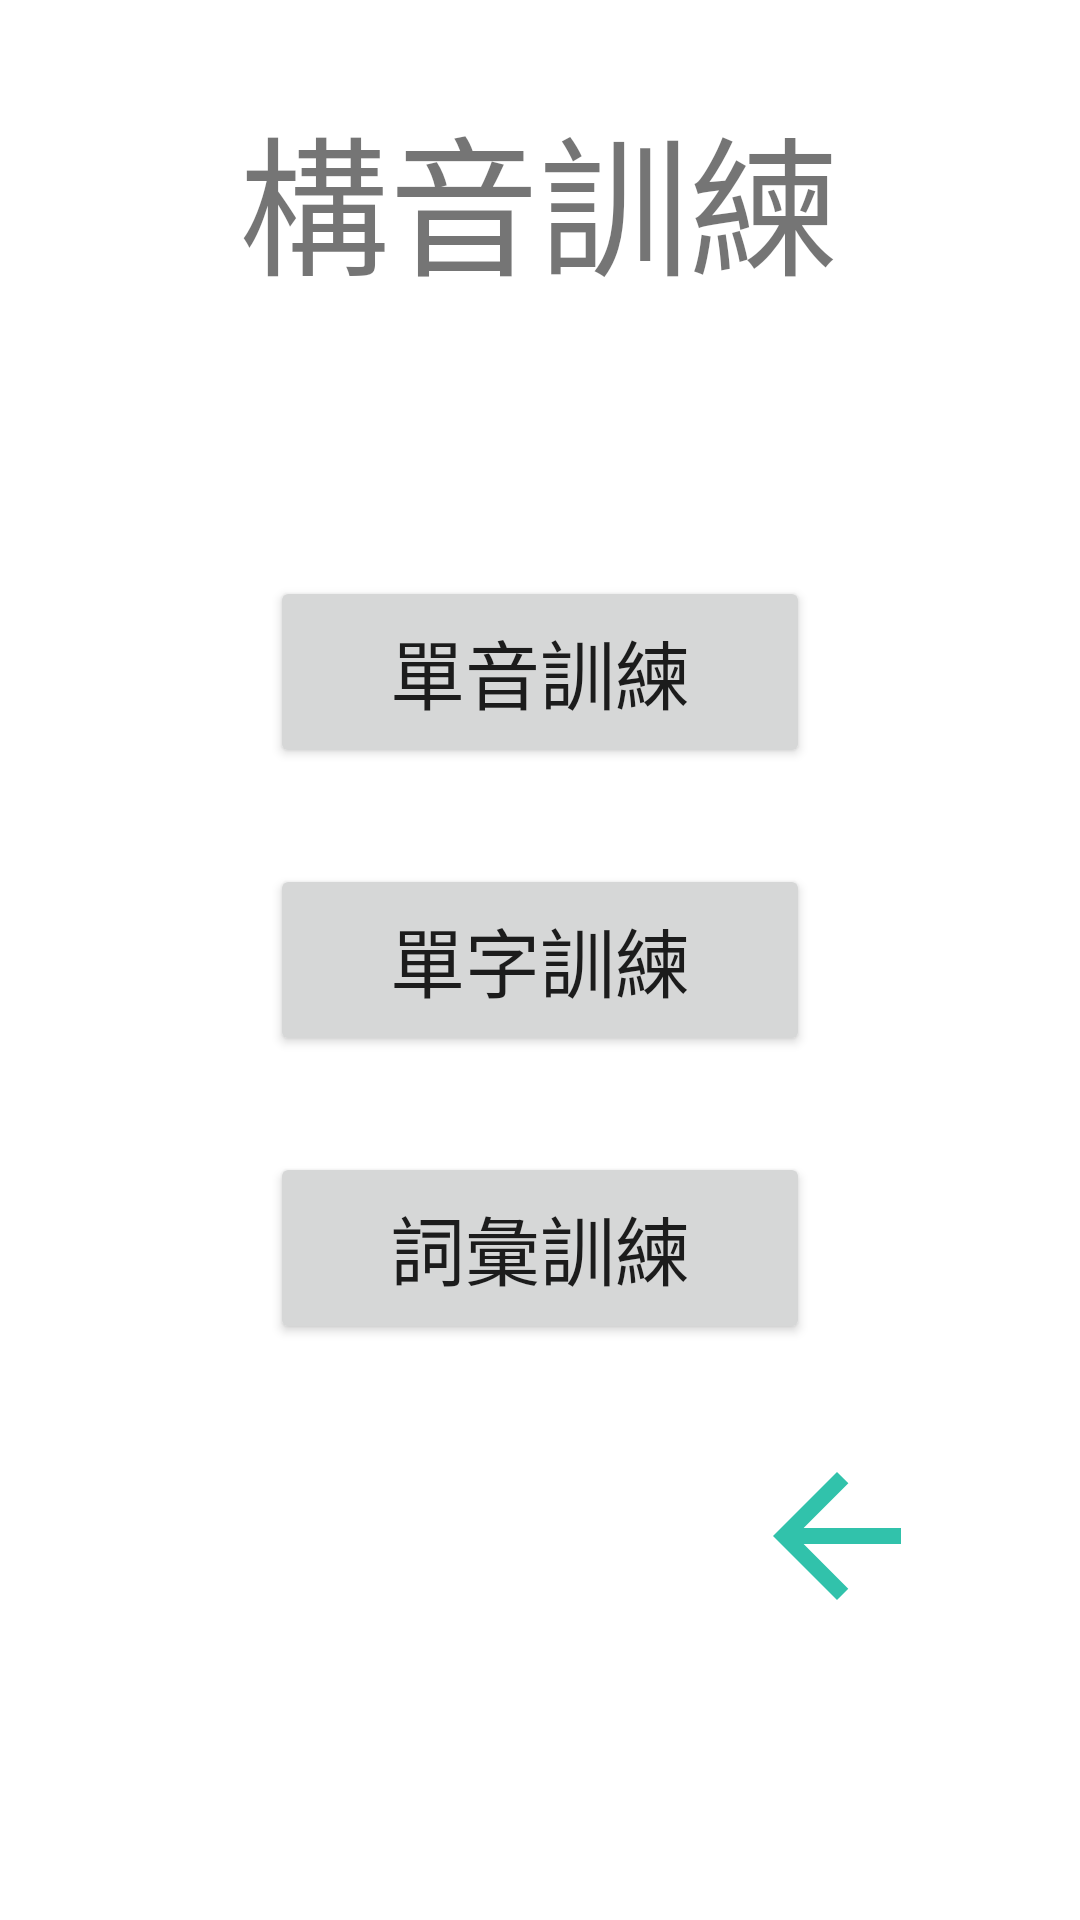

Point at icon controls on the screen. Image size 1080 × 1920, points as (x=x, y=y).
arrow back: (x=837, y=1536)
